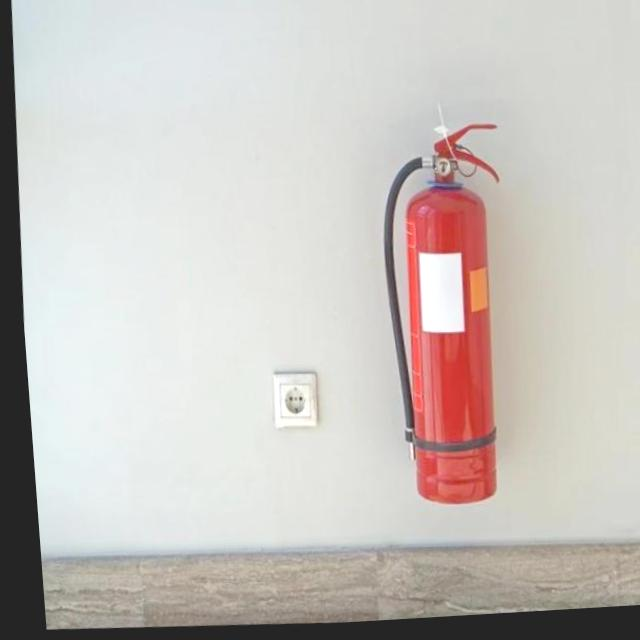FireExtinguisher: (357, 114, 523, 520)
